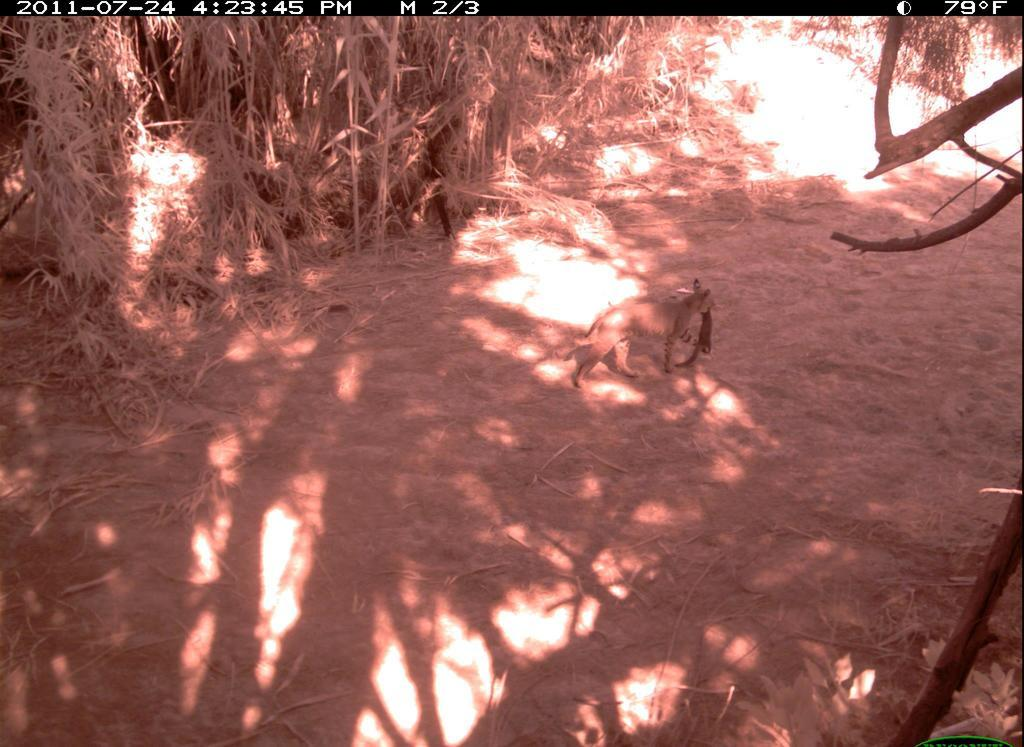bobcat: (551, 273, 719, 401)
